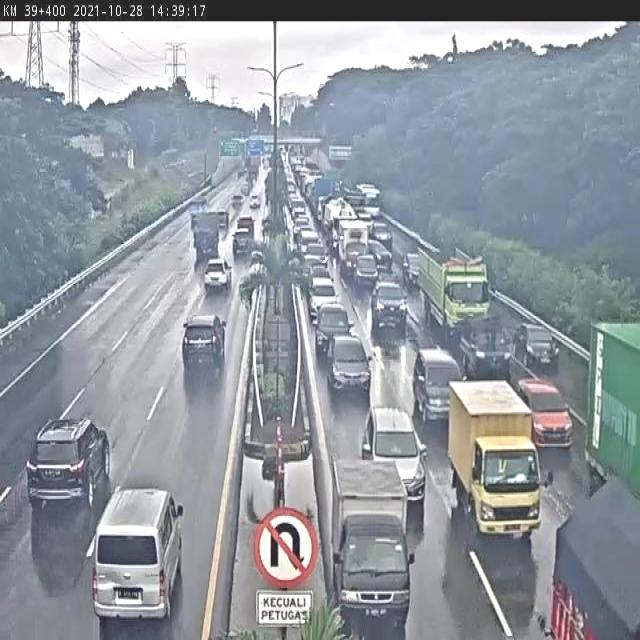Bus: (356, 181, 381, 220)
Car: (26, 414, 111, 511), (360, 404, 428, 512), (411, 348, 466, 427), (518, 375, 576, 449), (181, 313, 227, 384), (326, 332, 372, 396), (513, 322, 559, 375), (371, 278, 408, 337), (314, 300, 352, 357), (308, 278, 338, 322), (203, 257, 232, 293), (354, 251, 380, 287), (367, 238, 393, 272), (403, 253, 423, 291), (307, 260, 334, 286), (232, 226, 252, 259), (370, 221, 394, 248), (305, 241, 329, 266), (298, 231, 320, 257), (302, 252, 324, 276), (377, 271, 401, 292), (237, 214, 256, 236), (292, 217, 310, 240), (290, 198, 305, 218), (217, 210, 230, 231), (286, 191, 299, 210), (231, 194, 244, 209), (249, 194, 261, 210), (298, 223, 315, 234), (296, 213, 310, 224), (242, 182, 250, 196)
Truck: (445, 378, 553, 542), (328, 455, 417, 633), (549, 471, 640, 638), (584, 313, 640, 495), (415, 242, 493, 340), (333, 217, 370, 277), (322, 197, 359, 248), (191, 210, 220, 257), (314, 176, 336, 223), (340, 181, 366, 213), (189, 196, 208, 226), (248, 164, 258, 177)
Van: (90, 487, 182, 623)
